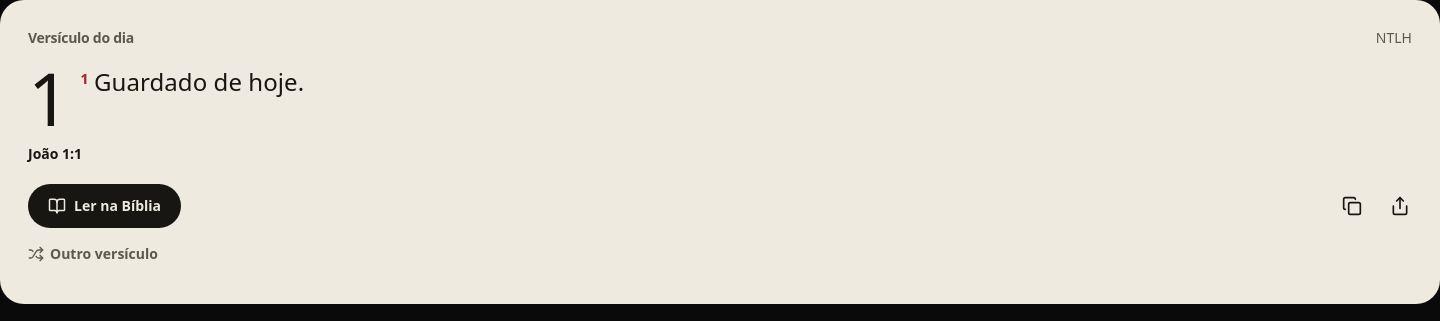
cartão do Versículo do Dia › Outro versículo troca o cartão e dá para voltar ao de hoje
The image size is (1440, 321).
Click the button "Outro versículo": {"x": 93, "y": 254} [16,232,170,276]
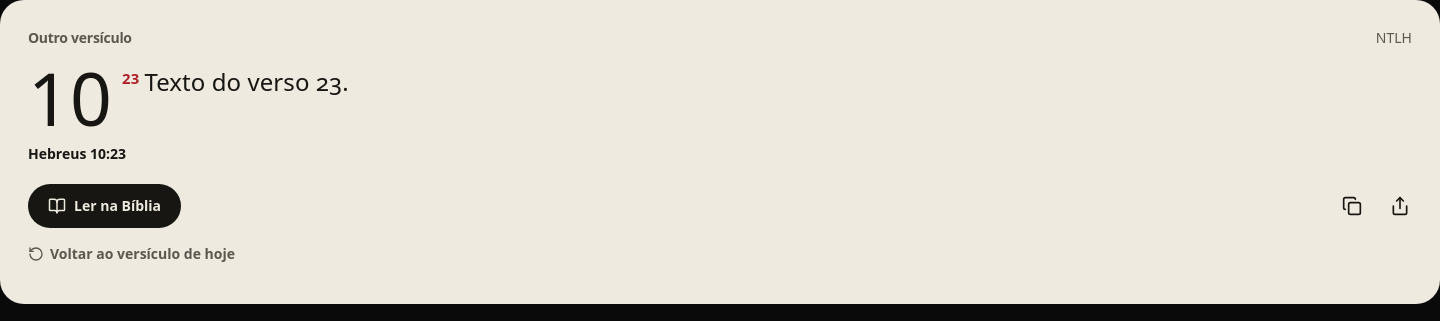
Check: the heading "Outro versículo" is shown, box [28,28,132,48]
Check: the text "Texto do verso 23." is shown, box [144,65,349,98]
Check: the text "João 1:1" is gone
Click the button "Voltar ao versículo de hoje": {"x": 132, "y": 254} [16,232,247,276]
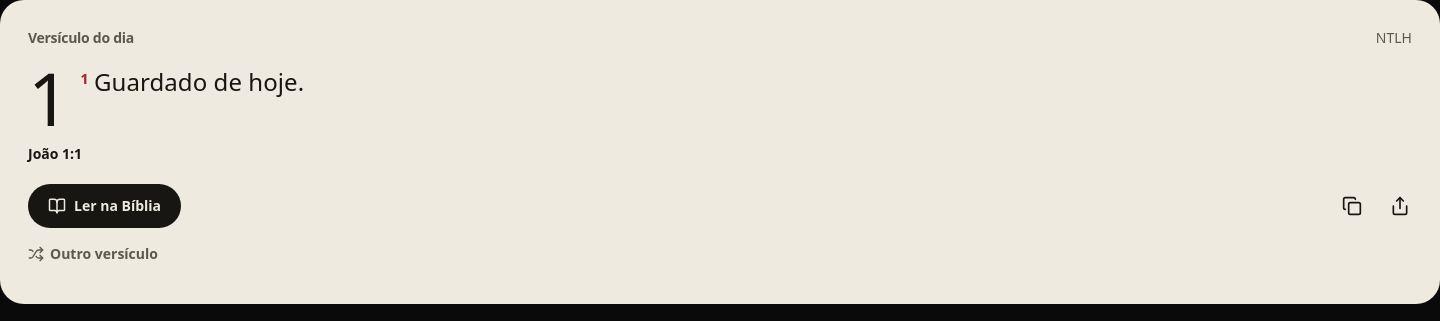
Check: the heading "Versículo do dia" is shown, box [28,28,134,48]
Check: the text "Guardado de hoje." is shown, box [94,65,304,98]
